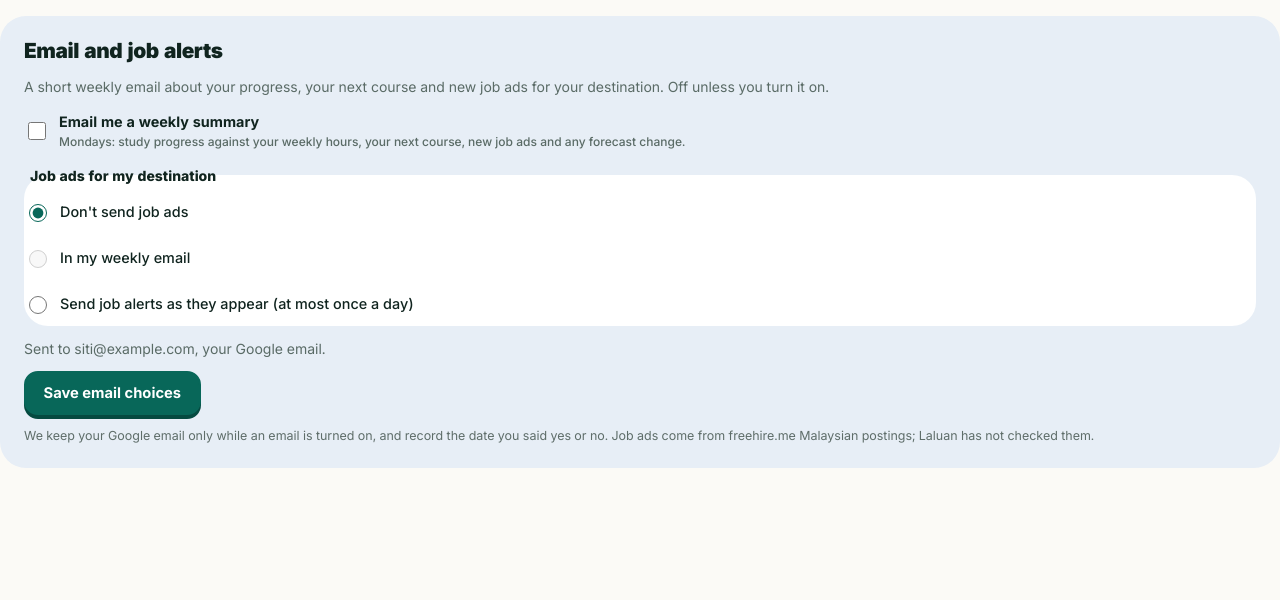
Scenario: EmailSettings › is off by default; weekly job ads need the weekly email; saving sends the choices
The image size is (1280, 600).
expect the radio button labelled "In my weekly email" is disabled: met, box [29,250,47,268]
Click the checkbox labelled "Email me a weekly summary" at (37, 131), box [28,122,46,140]
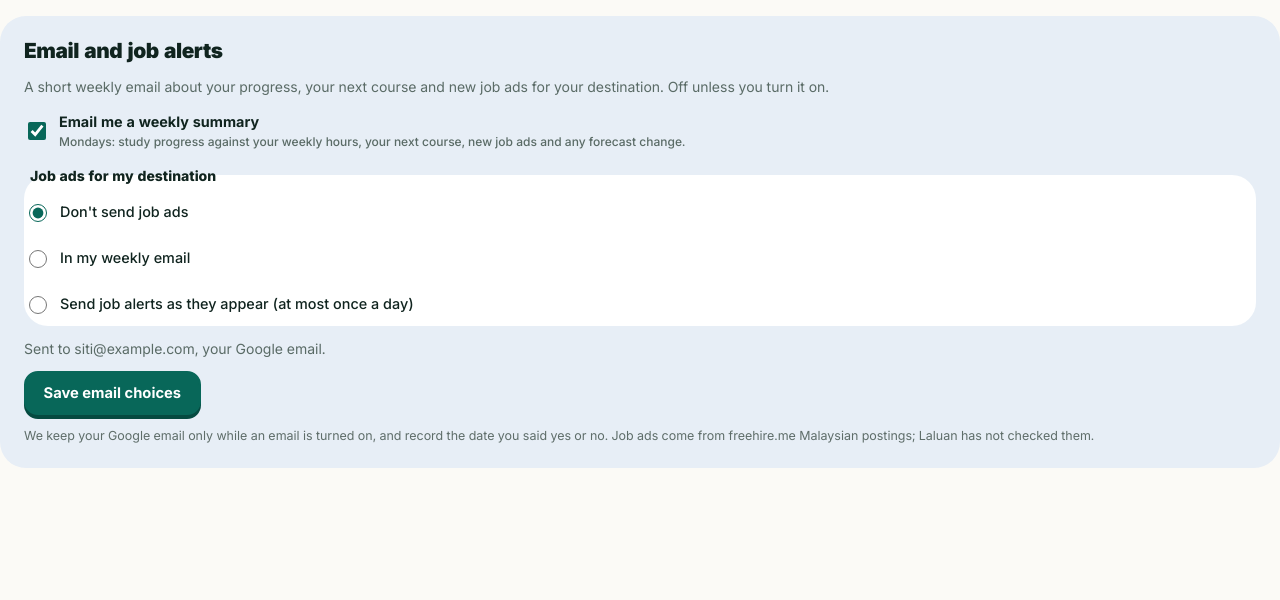
Click the radio button labelled "Send job alerts as they appear (at most once a day)" at (38, 306), box [29,296,47,314]
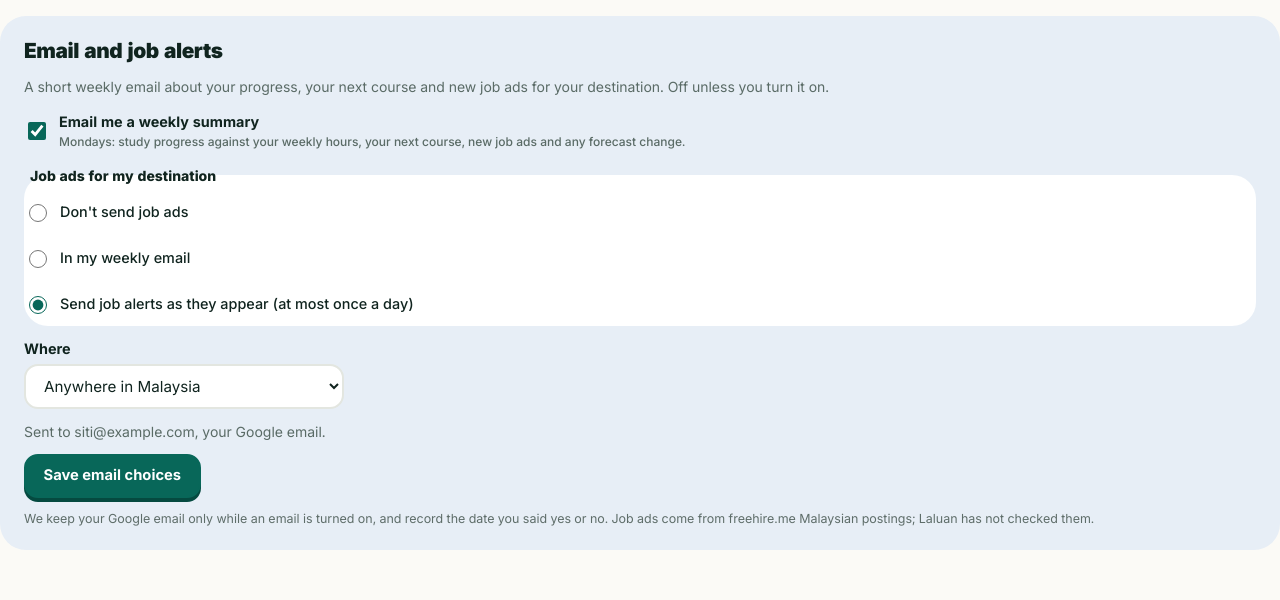
Select "Selangor" in the dropdown labelled "Where" at (184, 386), box [24,364,344,409]
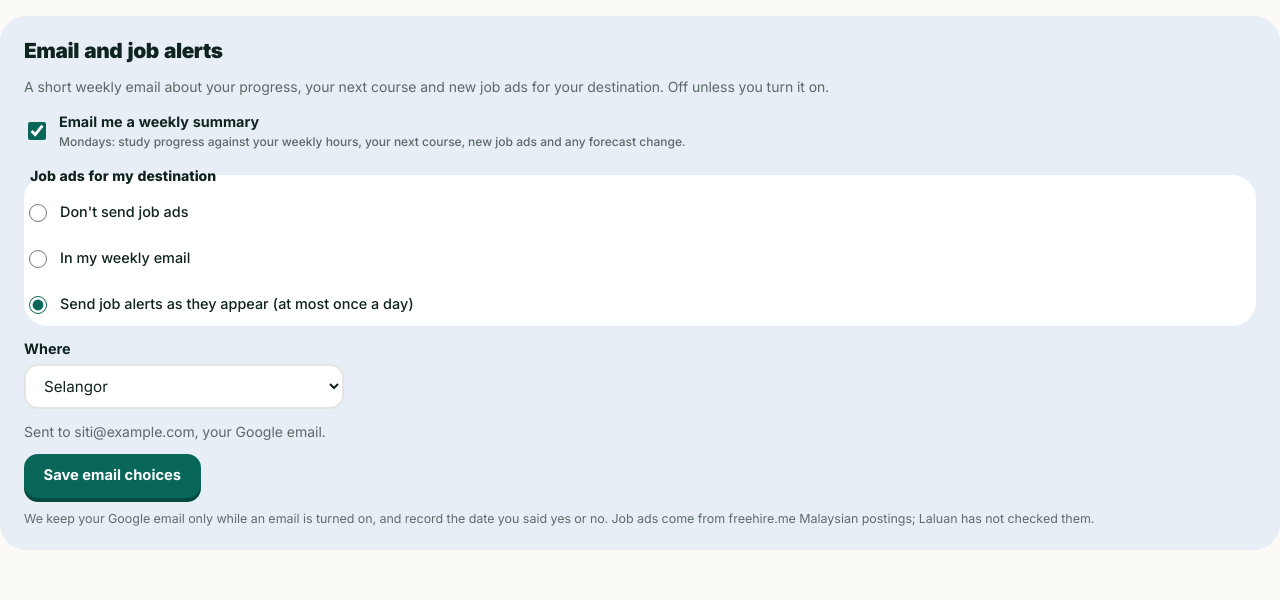
Click the button "Save email choices" at (112, 476), box [24,454,201,498]
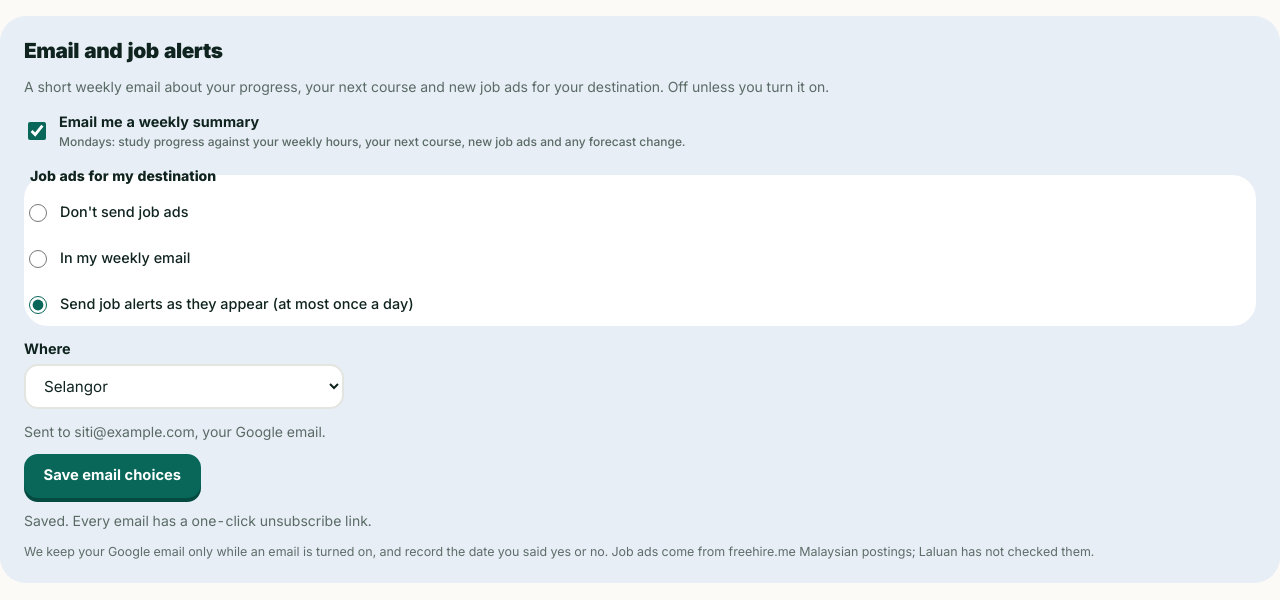
expect the text "Sent to siti@example.com, your Google email." is shown: met, box [24,423,326,440]
expect the text "Saved. Every email has a one-click unsubscribe link." is shown: met, box [24,512,372,529]
